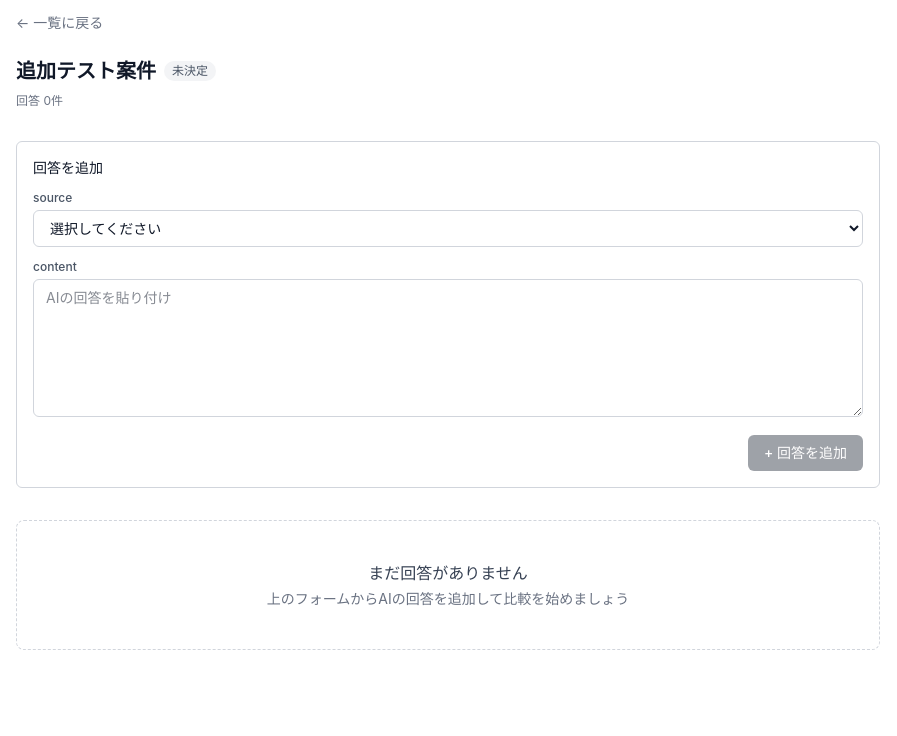
Test: ProjectDetailScreen › source/contentを入力して回答を追加できる
Select "ChatGPT" in the dropdown labelled "source". click: (448, 228)
box: top-left (33, 210), bottom-right (863, 247)
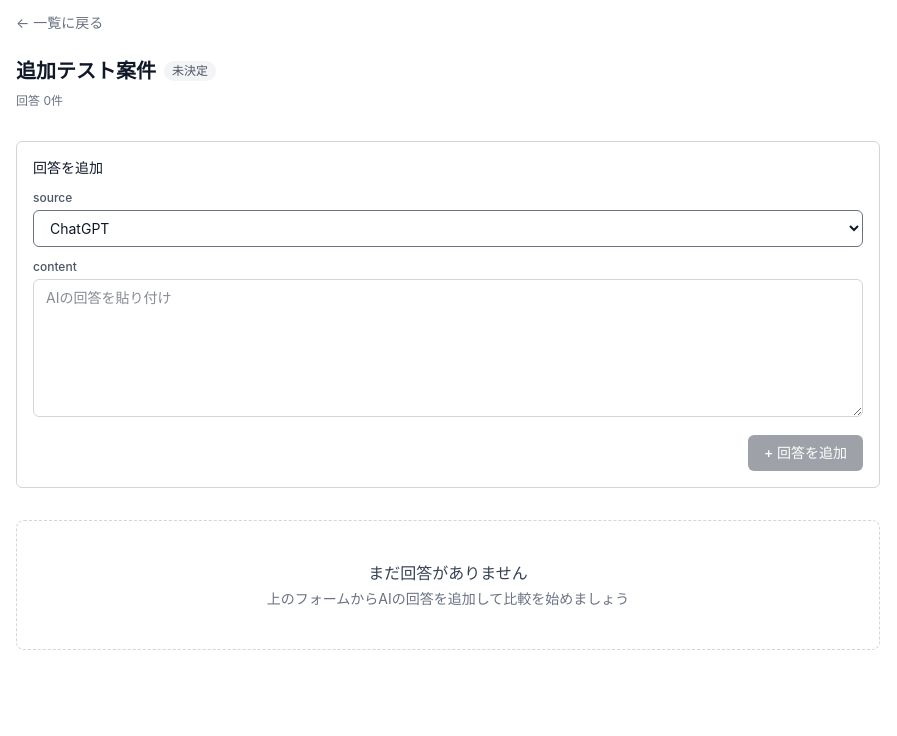
Type "ChatGPTの回答本文" into the text box labelled "content". click: (448, 348)
box: top-left (33, 279), bottom-right (863, 417)
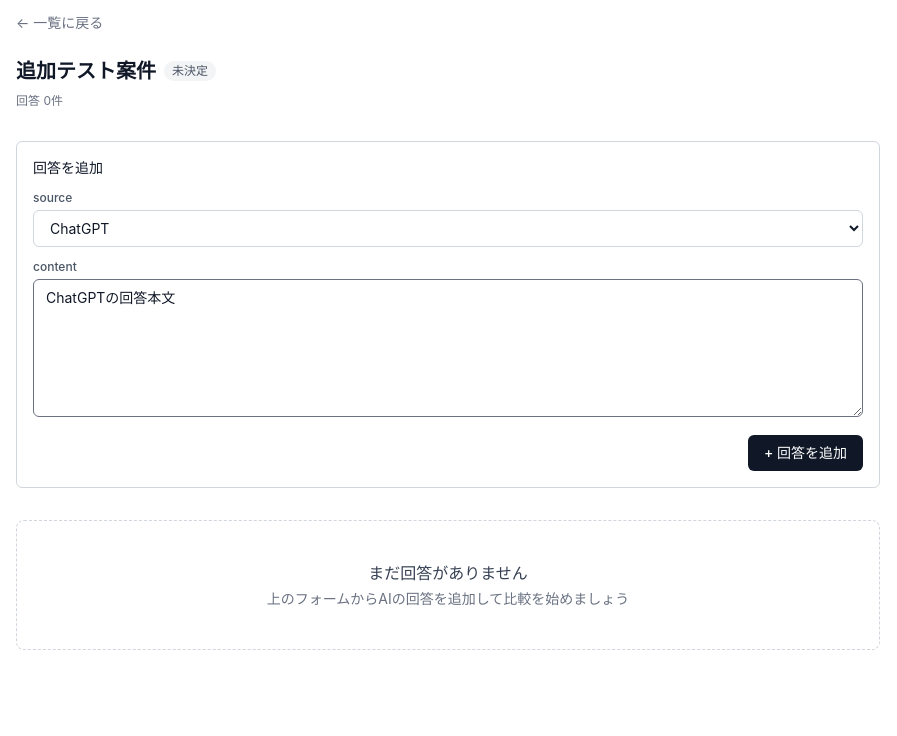
Click the button "+ 回答を追加". click: (805, 453)
box: top-left (748, 435), bottom-right (863, 471)
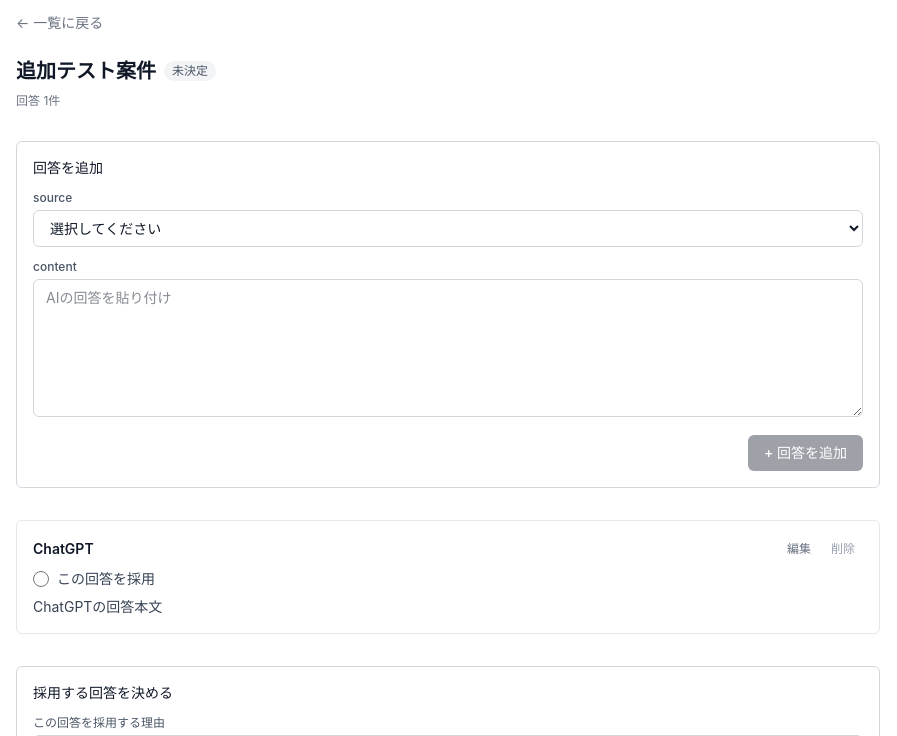
Expected: the text "ChatGPTの回答本文" is shown, top-left (33, 598), bottom-right (162, 615)
Expected: the text "回答 1件" is shown, top-left (16, 93), bottom-right (60, 108)
